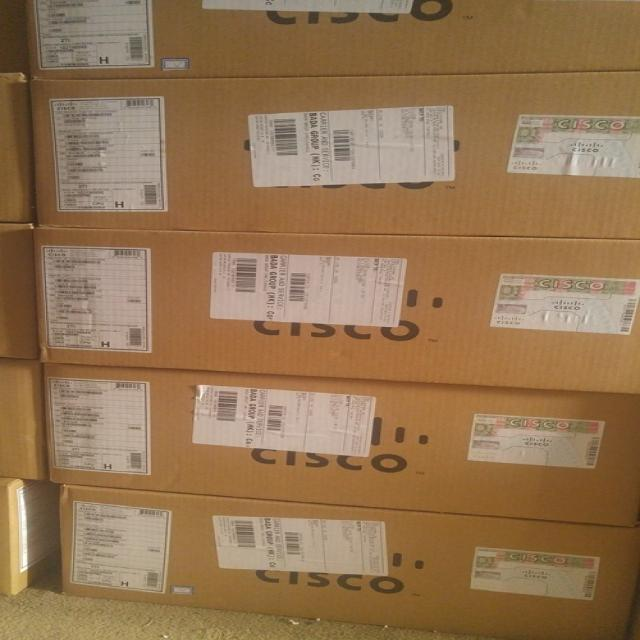box: (29, 70, 638, 238), (36, 227, 639, 393), (40, 360, 639, 527), (59, 483, 639, 639), (26, 0, 639, 77), (0, 477, 61, 595), (0, 356, 48, 482), (0, 222, 40, 360), (0, 72, 35, 223)
